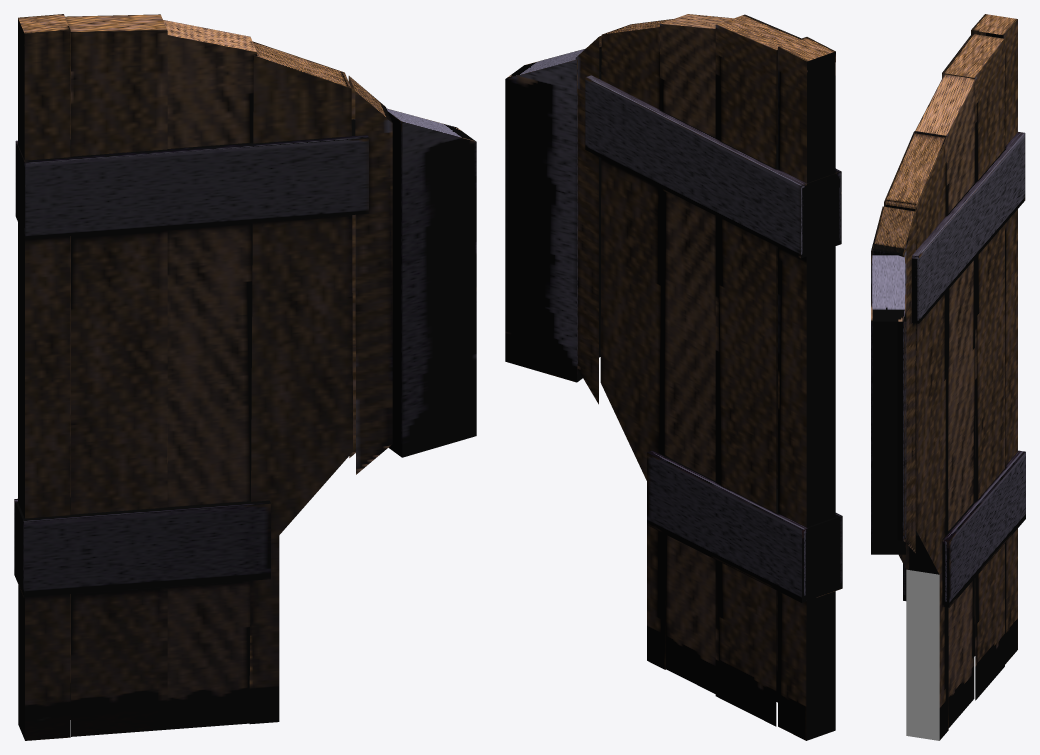
Rendered from DoorSide1F2.obj.
3 views of the same model, side by side, from view 1: azimuth 30°, elevation 25°; view 2: azimuth 150°, elevation 25°; view 3: azimuth 270°, elevation 25° (orthographic). The views are drawn at different scales.
Visible parts, largest first — view 1: object 2; view 2: object 2; view 3: object 2, DoorSide1F2_Cube.027.
Boxes of the visible parts, <box> form: object 2: <box>14,14,476,740</box>; object 2: <box>505,14,842,740</box>; object 2: <box>871,14,1025,740</box>; DoorSide1F2_Cube.027: <box>906,569,939,740</box>.
Size of the model in its own units: 104 by 178 by 39.71.
